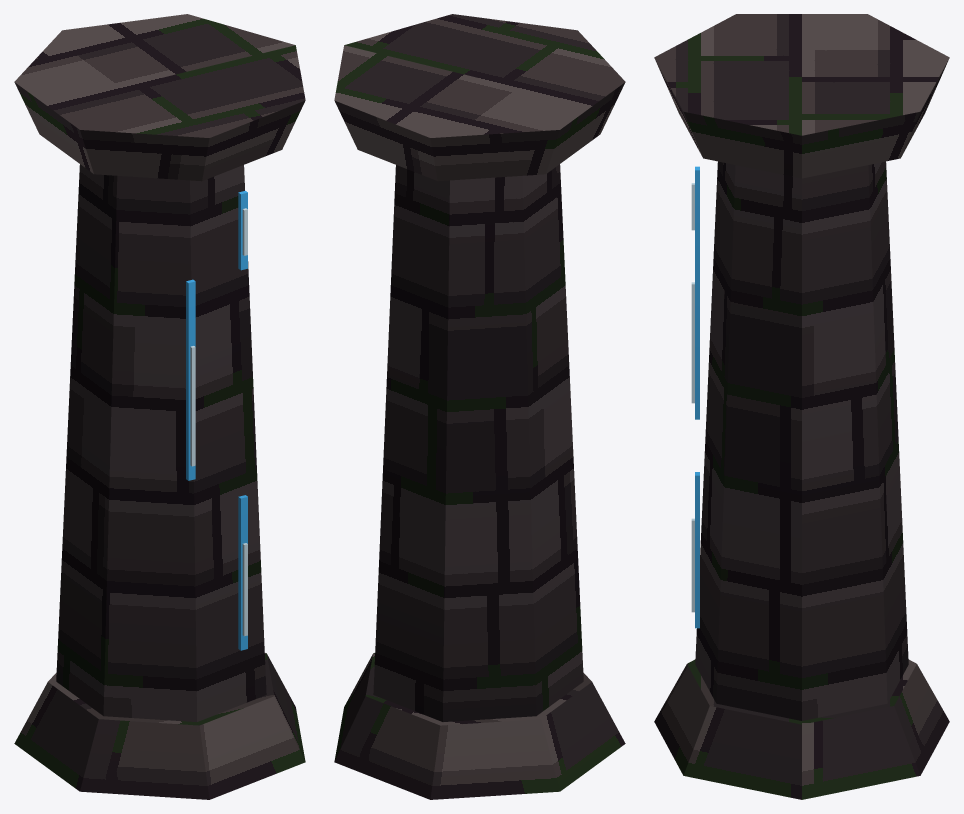
The model's file is obsidian_pillar.glb.
3 renders of one model, left to right at view 1: azimuth 30°, elevation 25°; view 2: azimuth 150°, elevation 25°; view 3: azimuth 270°, elevation 25°, orthographic.
Parts seen in each view (by area): view 1: obsidian_pillar; view 2: obsidian_pillar; view 3: obsidian_pillar.
Boxes of the visible parts, x1,y1,x2,y2 form: obsidian_pillar: (14,14,305,799); obsidian_pillar: (334,14,625,799); obsidian_pillar: (654,14,949,799).
Bounding box in the file's own units: 1.71 × 4.35 × 1.75.
2 materials, 1 textured.
